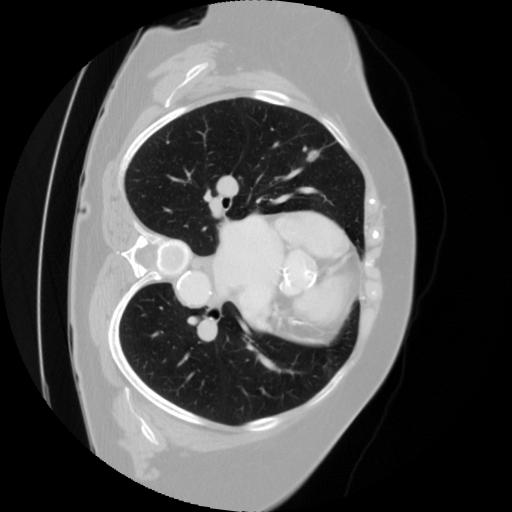nodule: (305, 146, 324, 165)
